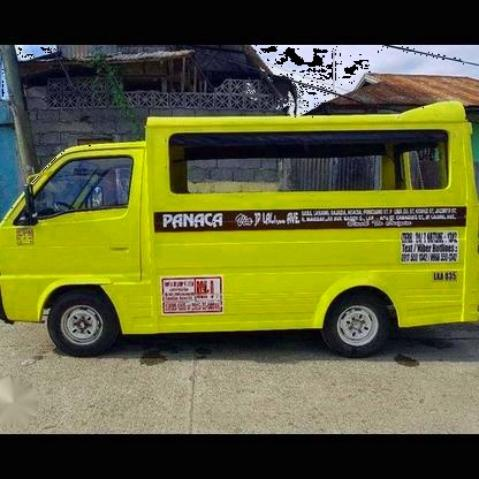jeepney: (0, 94, 479, 371)
